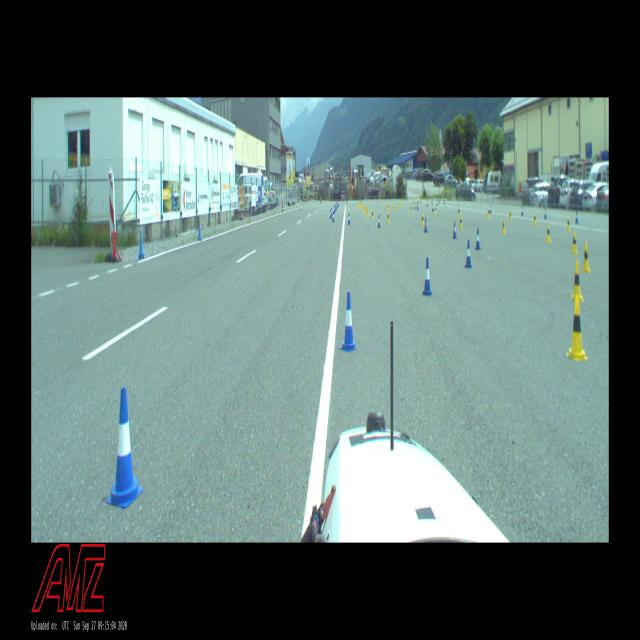blue_cone: (111, 388, 138, 505), (342, 293, 355, 350), (422, 257, 432, 295), (465, 240, 472, 267), (138, 230, 144, 258), (475, 228, 481, 250), (452, 222, 457, 238), (198, 222, 202, 240), (424, 218, 428, 232), (575, 210, 578, 222), (332, 211, 335, 222), (348, 213, 350, 225), (378, 215, 380, 227), (330, 209, 332, 219), (544, 208, 546, 218), (522, 206, 524, 215), (333, 206, 335, 214), (331, 208, 333, 216), (436, 200, 438, 206), (417, 205, 419, 210), (414, 204, 416, 209), (458, 204, 459, 212), (490, 205, 491, 213), (336, 203, 337, 210), (432, 204, 433, 211), (427, 201, 428, 207), (417, 201, 418, 207), (438, 198, 439, 204), (420, 198, 421, 203), (444, 199, 445, 204), (338, 200, 339, 205), (347, 200, 348, 204), (378, 200, 379, 203), (337, 202, 337, 208), (335, 205, 335, 212), (432, 198, 432, 203), (338, 200, 338, 207)
large_orange_cone: (282, 200, 284, 212)
yellow_cone: (569, 295, 585, 360), (572, 261, 582, 301), (582, 242, 590, 273), (572, 231, 578, 253), (546, 224, 550, 242), (502, 218, 506, 233), (566, 216, 570, 231), (509, 210, 512, 221), (534, 212, 536, 225), (422, 213, 424, 226), (460, 216, 462, 228), (372, 209, 374, 219), (488, 208, 490, 218), (388, 212, 390, 222), (434, 205, 436, 214), (459, 206, 461, 214), (367, 208, 369, 216), (386, 203, 388, 210), (394, 204, 396, 211), (392, 202, 394, 208), (412, 200, 413, 207), (411, 205, 412, 212), (362, 204, 363, 211), (361, 203, 362, 210), (364, 205, 365, 212), (388, 204, 389, 210), (418, 199, 419, 204), (383, 199, 384, 204), (414, 198, 415, 203), (361, 199, 362, 203), (368, 200, 369, 204), (399, 199, 400, 203), (366, 207, 366, 214), (359, 201, 359, 207), (360, 202, 360, 208), (402, 201, 402, 207)
